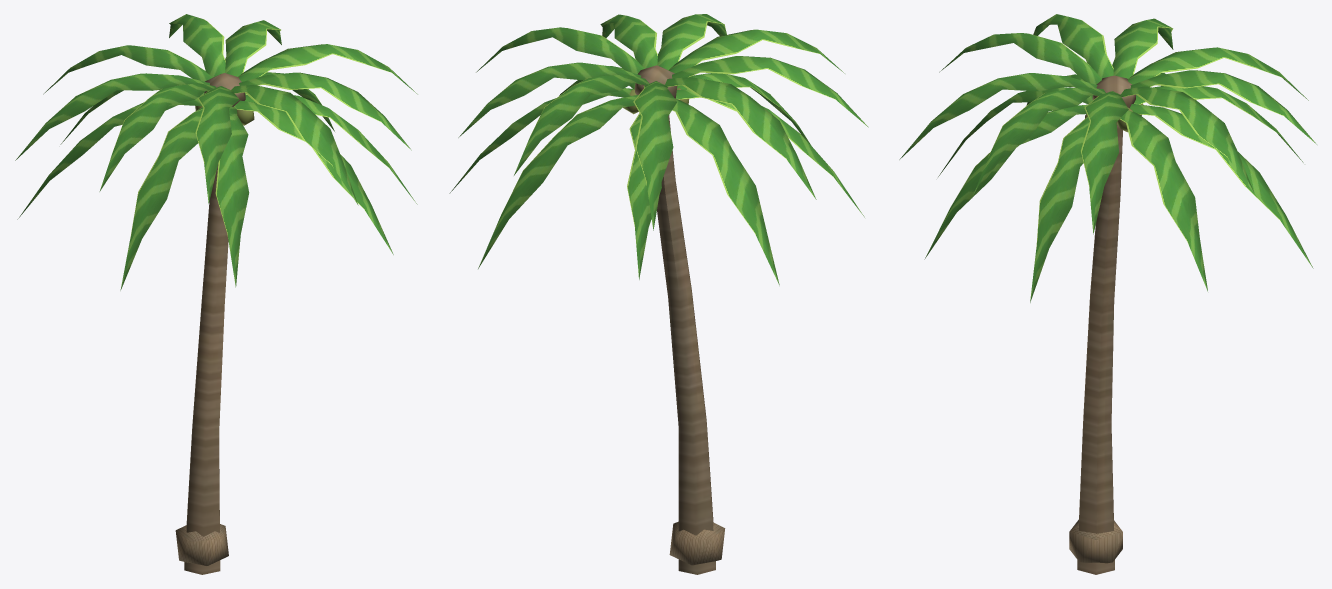
File: palm_0.glb
The picture shows the model from 3 angles, left to right: view 1: azimuth 30°, elevation 25°; view 2: azimuth 150°, elevation 25°; view 3: azimuth 270°, elevation 25°; orthographic projection. The views are drawn at different scales.
Parts seen in each view (by area): view 1: palm_0; view 2: palm_0; view 3: palm_0.
Boxes of the visible parts, left/top/right/bottom form: palm_0: left=15, top=14, right=417, bottom=574; palm_0: left=449, top=14, right=868, bottom=574; palm_0: left=899, top=14, right=1316, bottom=574.
Size of the model in its own units: 7.38 by 9.51 by 6.92.
2 materials, 2 textured.
